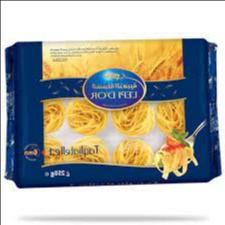Tagliatelle: (2, 39, 221, 187)
